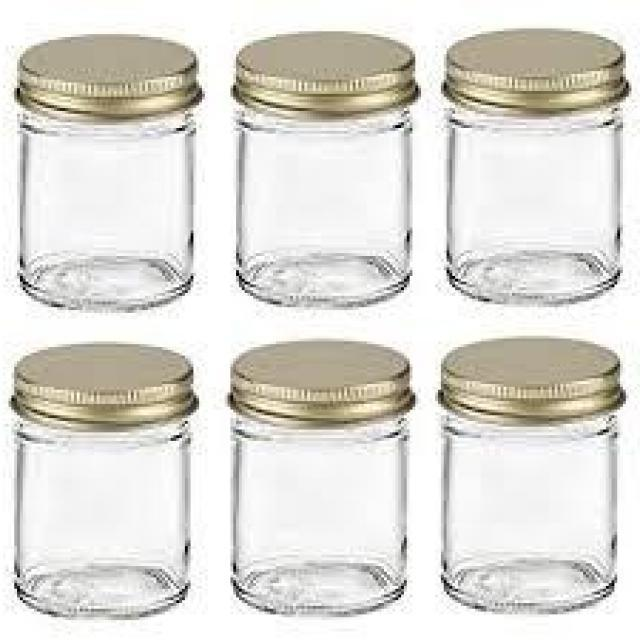glass: (225, 28, 424, 313)
